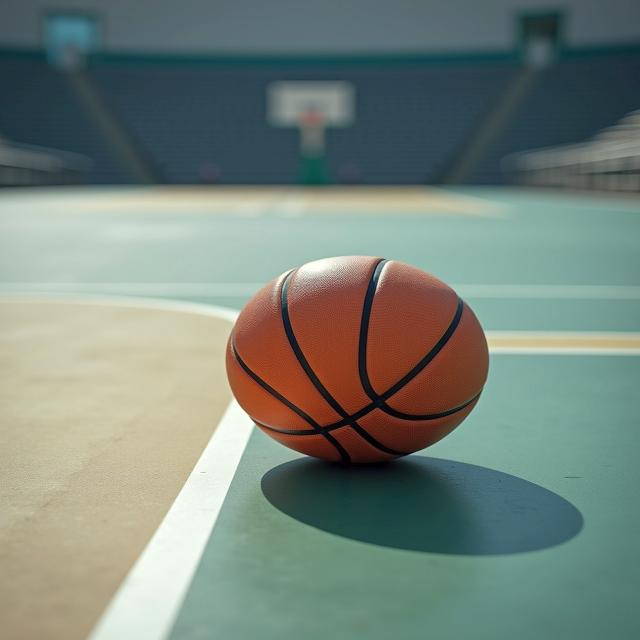Basketball: (223, 256, 490, 463)
